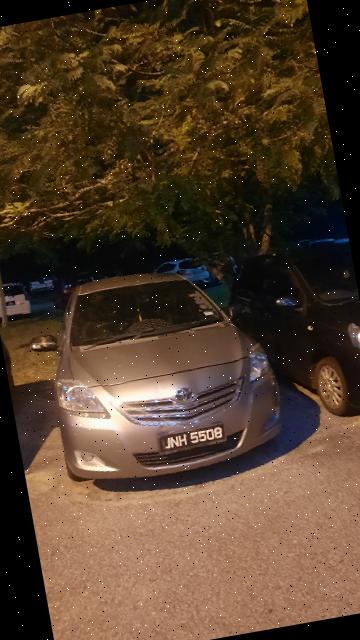License_Plate: (155, 420, 231, 459)
car: (18, 248, 291, 500)
